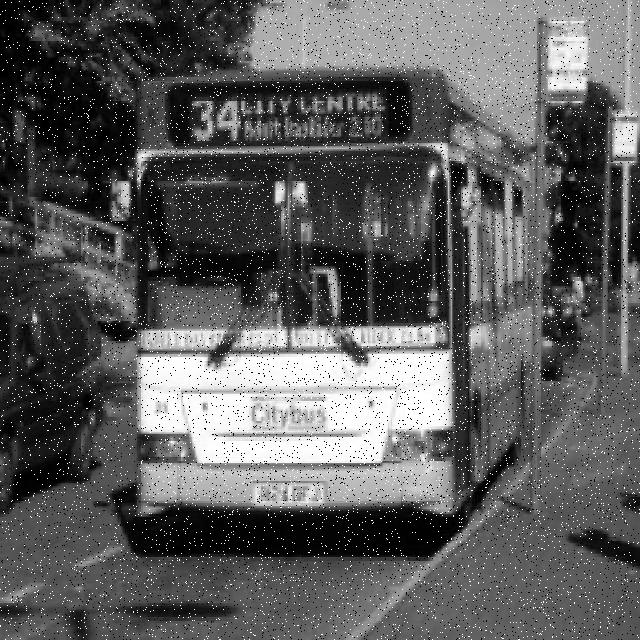Bus: (131, 63, 540, 524)
